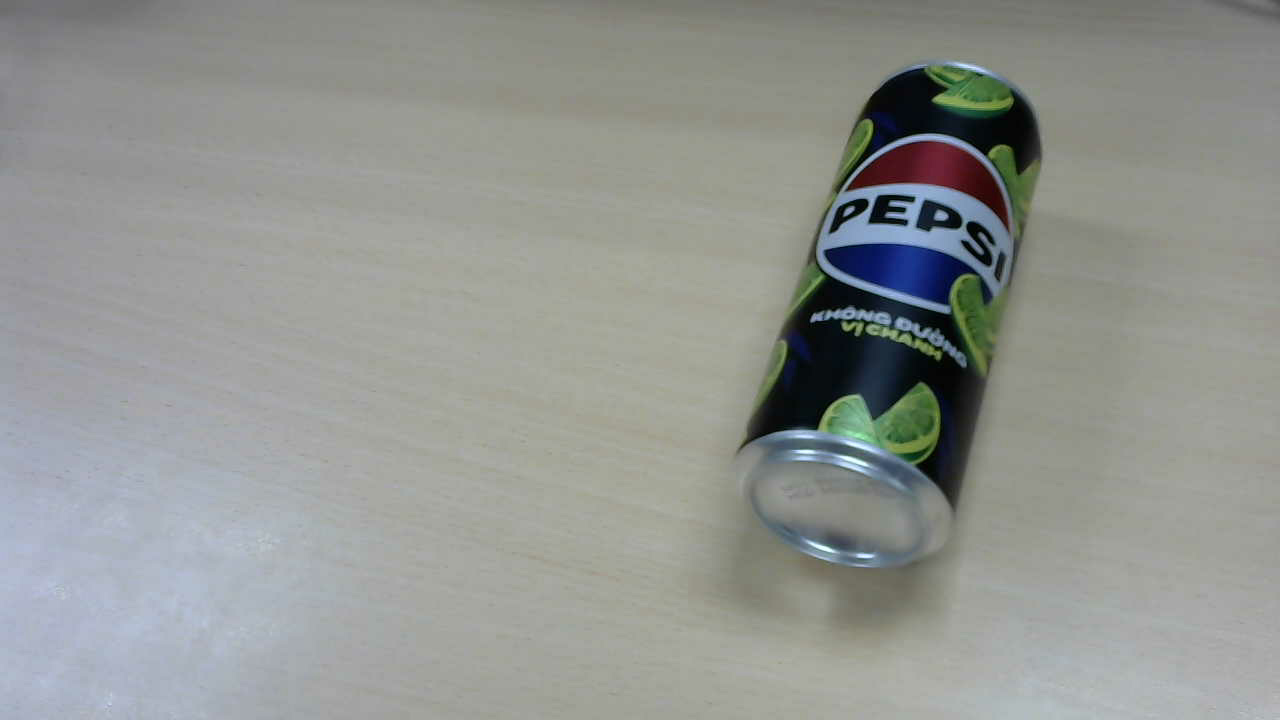Pepsi: (740, 67, 1048, 570)
